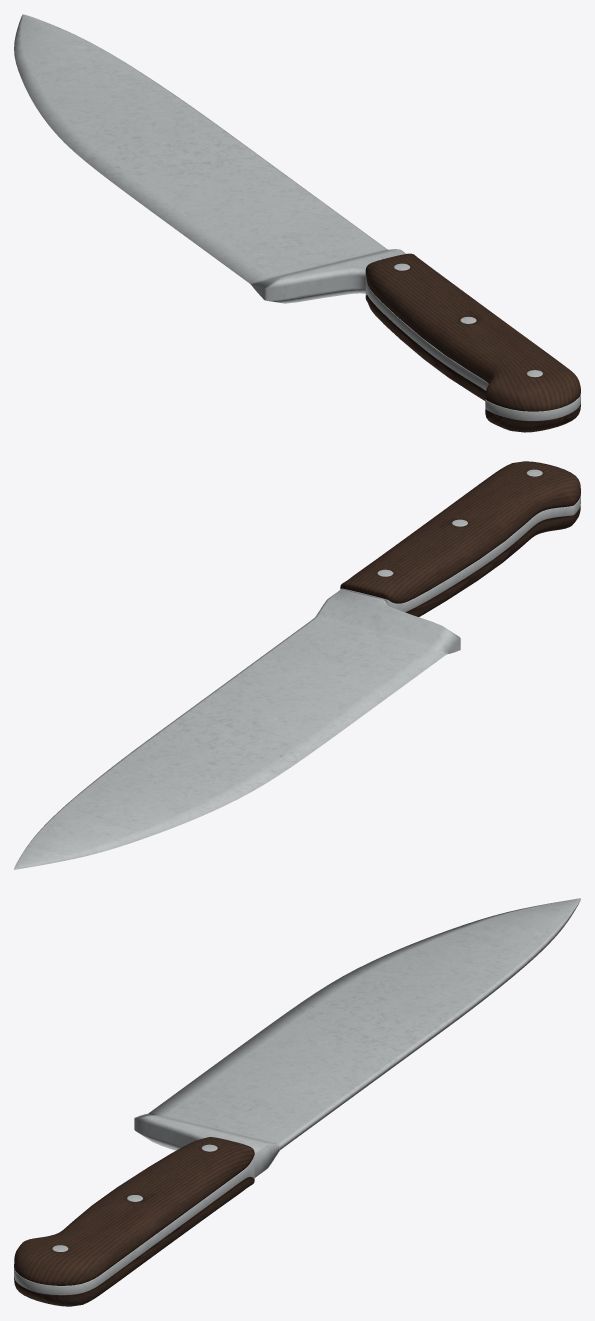
Rendered from CuttingKnife_Visual.fbx.
3 views of the same model, one above another, from view 1: azimuth 30°, elevation 25°; view 2: azimuth 150°, elevation 25°; view 3: azimuth 330°, elevation 25° (orthographic).
Visible parts, largest first — view 1: CuttingKnife; view 2: CuttingKnife; view 3: CuttingKnife.
Part boxes in pixels (x1,y1,x2,y2): CuttingKnife: [14, 14, 580, 432]; CuttingKnife: [14, 461, 580, 869]; CuttingKnife: [14, 898, 580, 1306].
Size of the model in its own units: 4.83 by 1.62 by 33.2.
Materials: 1 (1 with a texture image).
